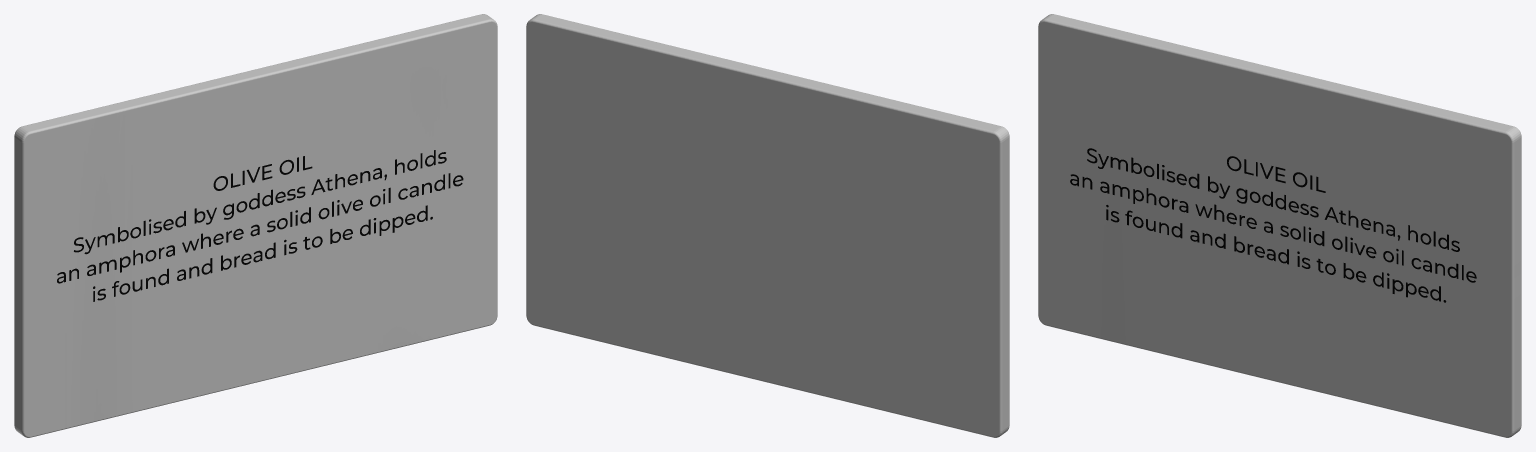
File: Picture5.glb
3 views of the same model, side by side, from view 1: azimuth 30°, elevation 25°; view 2: azimuth 150°, elevation 25°; view 3: azimuth 330°, elevation 25° (orthographic).
Parts seen in each view (by area): view 1: Text.001; view 2: Text.001; view 3: Text.001.
Part boxes in pixels (x1=…): Text.001: x1=14, y1=14, x2=497, y2=437; Text.001: x1=526, y1=14, x2=1009, y2=437; Text.001: x1=1038, y1=14, x2=1521, y2=437.
Size of the model in its own units: 1.8 by 1.11 by 0.0657.
Materials: 2 (2 with a texture image).
